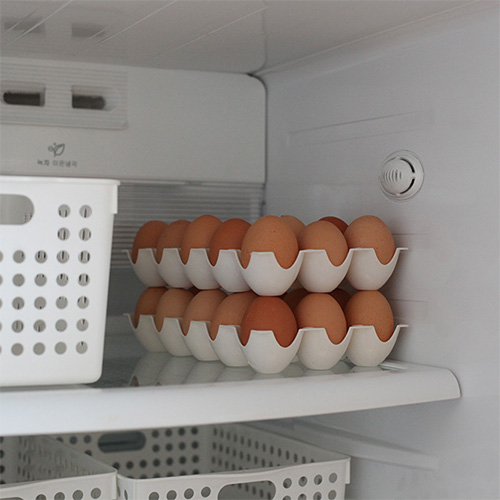egg: (131, 213, 404, 350)
